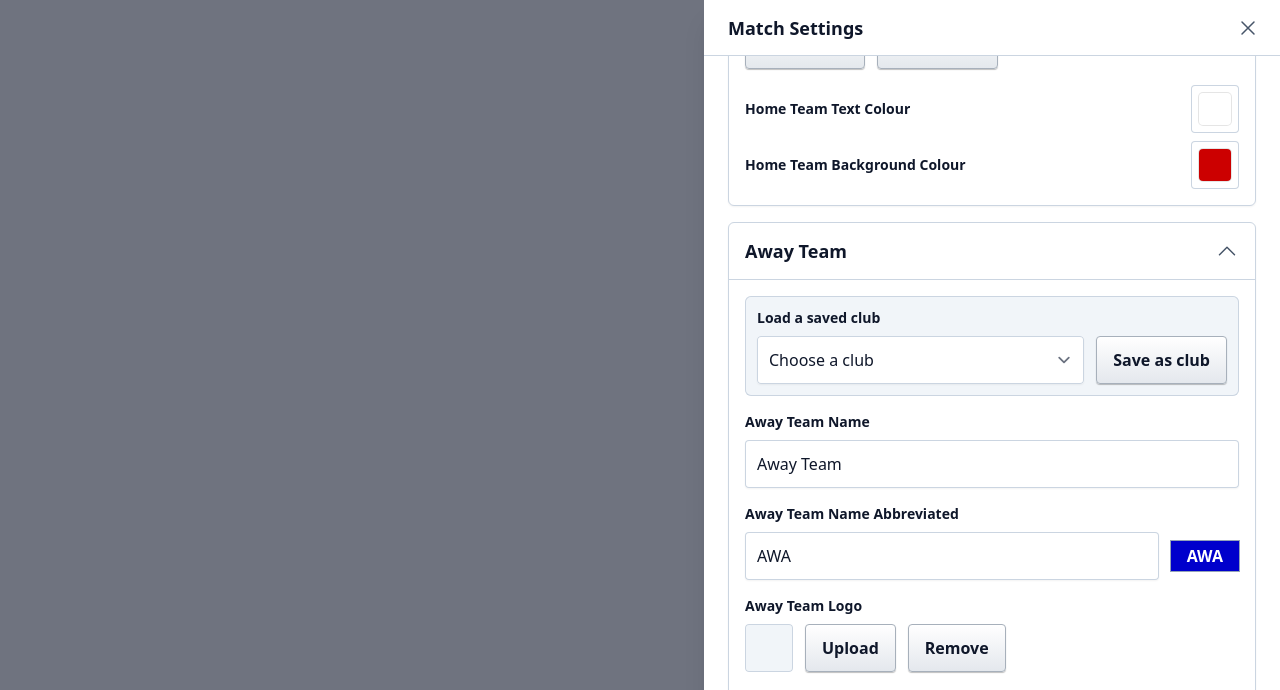
it: Club presets › loads a saved club into a team slot, replacing its logo
(page scrolled)
Step 1. Select "Rovers (ROV)" in the dropdown labelled "Load a saved club" → (921, 360), box [757,336,1084,384]
(page scrolled)
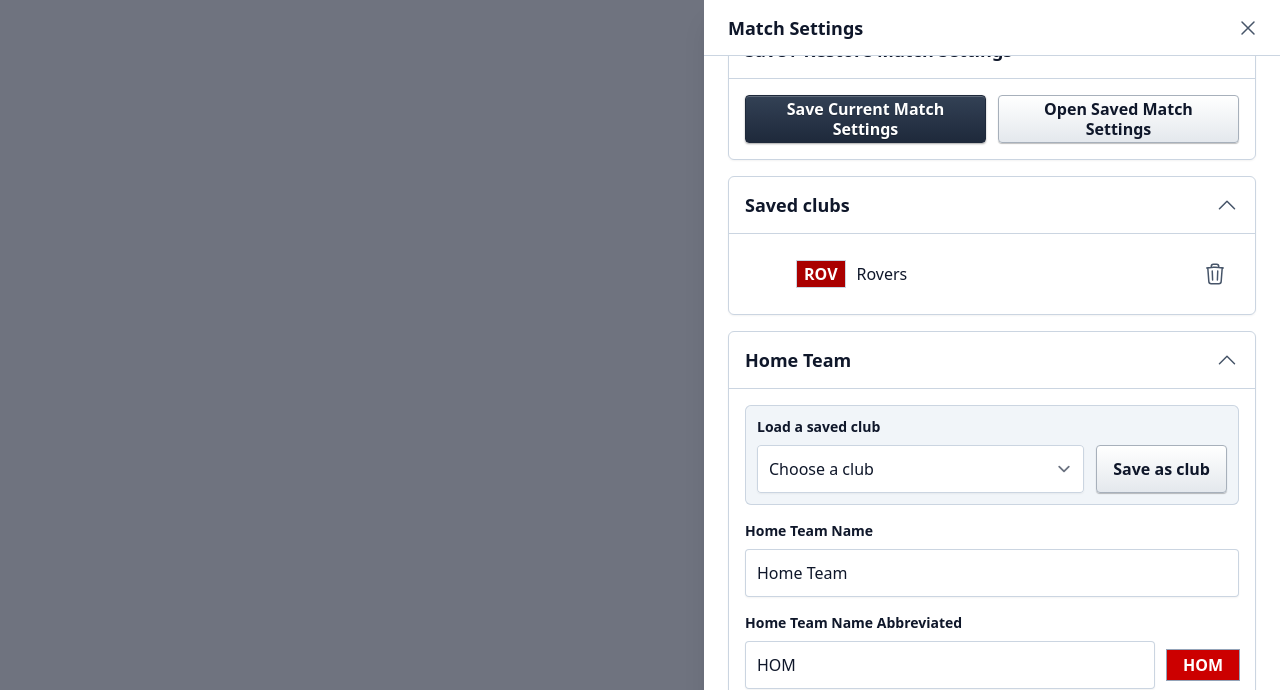
Now the text "Home Team" is shown, box [745,348,851,372]
